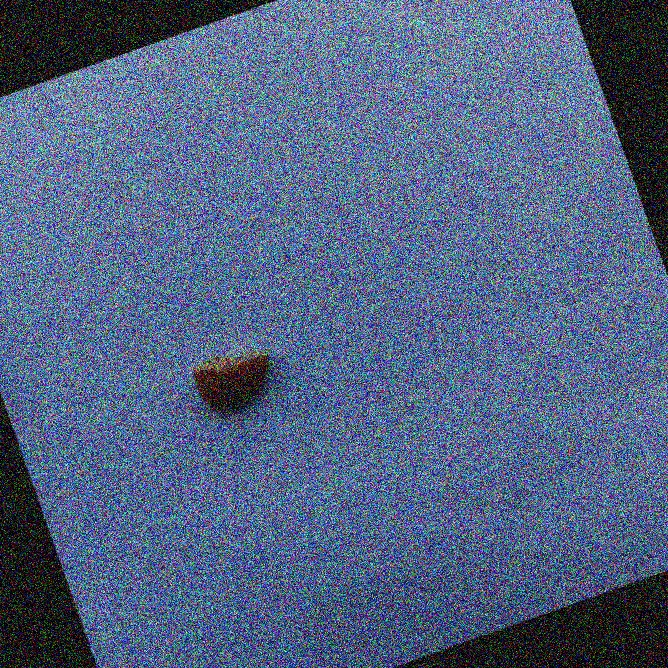grade4: (181, 333, 292, 426)
